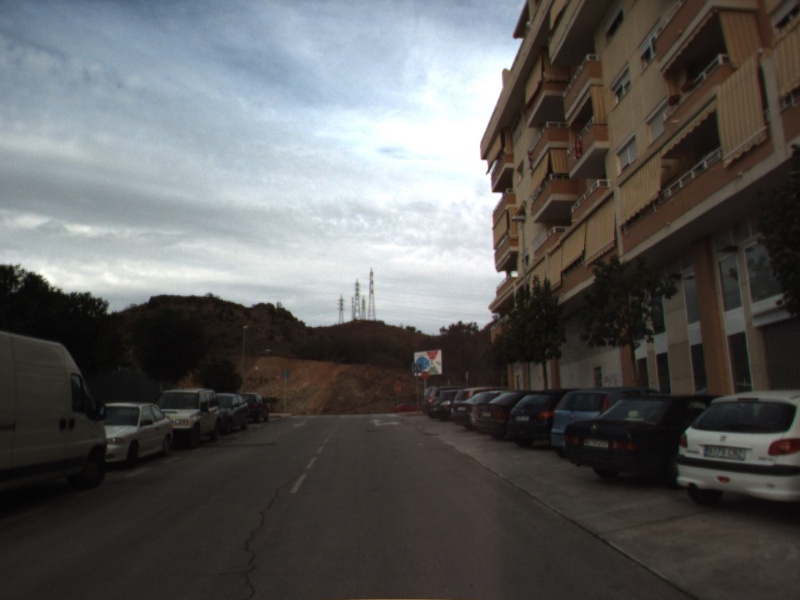STRAIGHT_RIGHT: (366, 417, 402, 428)
